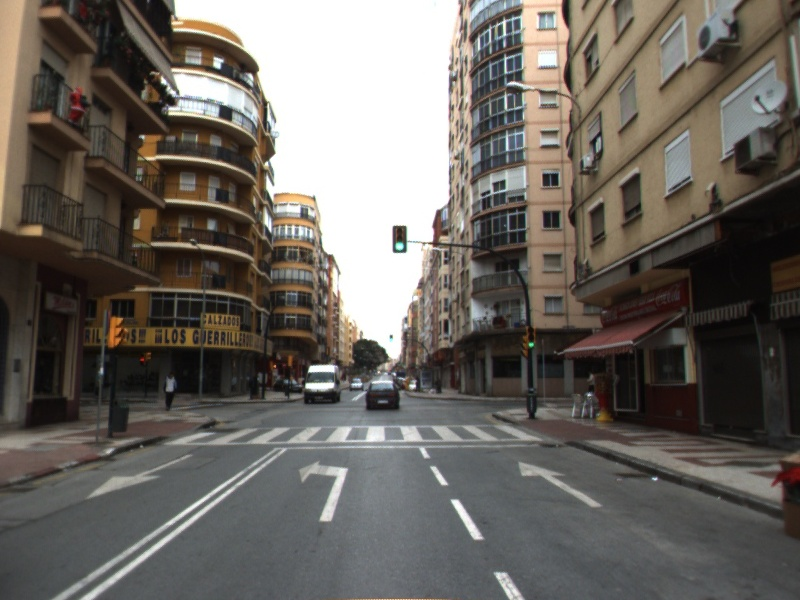LEFT: (297, 459, 350, 523)
STRAIGHT: (517, 460, 604, 509)
